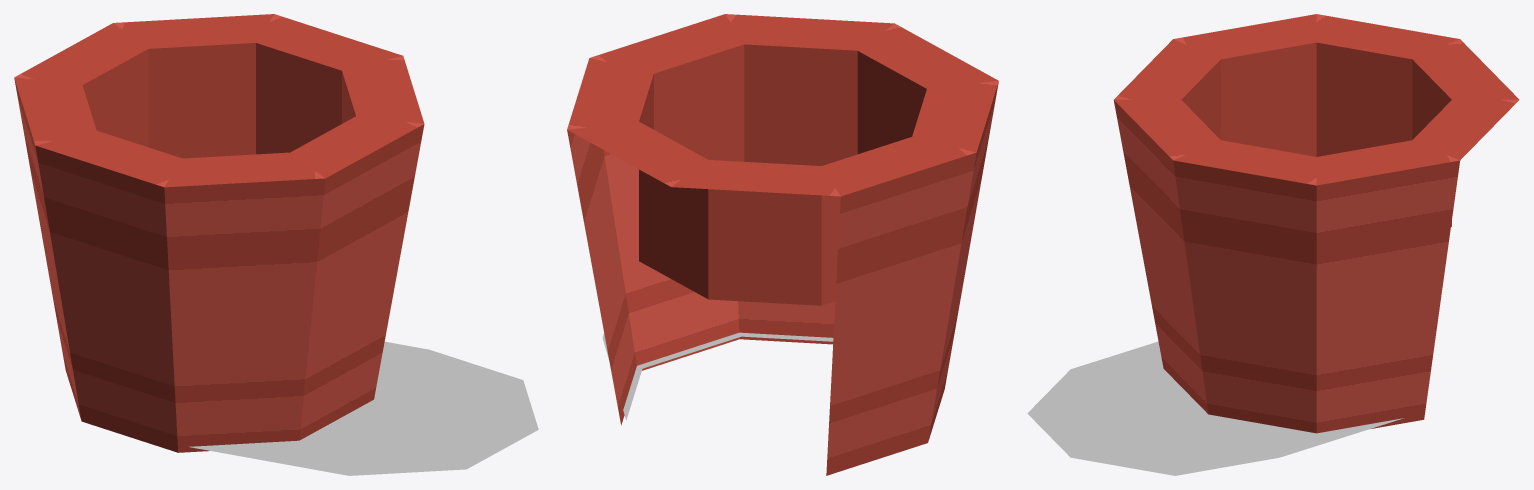
The picture shows the model from 3 angles, left to right: view 1: azimuth 30°, elevation 25°; view 2: azimuth 150°, elevation 25°; view 3: azimuth 270°, elevation 25°; orthographic projection. The views are drawn at different scales.
Visible parts, largest first — view 1: polygon0, polygon1; view 2: polygon0, polygon1; view 3: polygon0, polygon1.
Boxes of the visible parts, x1,y1,x2,y2 form: polygon0: (14, 14, 424, 452); polygon1: (189, 341, 538, 475); polygon0: (567, 14, 998, 475); polygon1: (602, 332, 833, 420); polygon0: (1113, 14, 1519, 433); polygon1: (1027, 341, 1404, 475).
Bounding box in the file's own units: 6.53 × 4.33 × 7.04.
